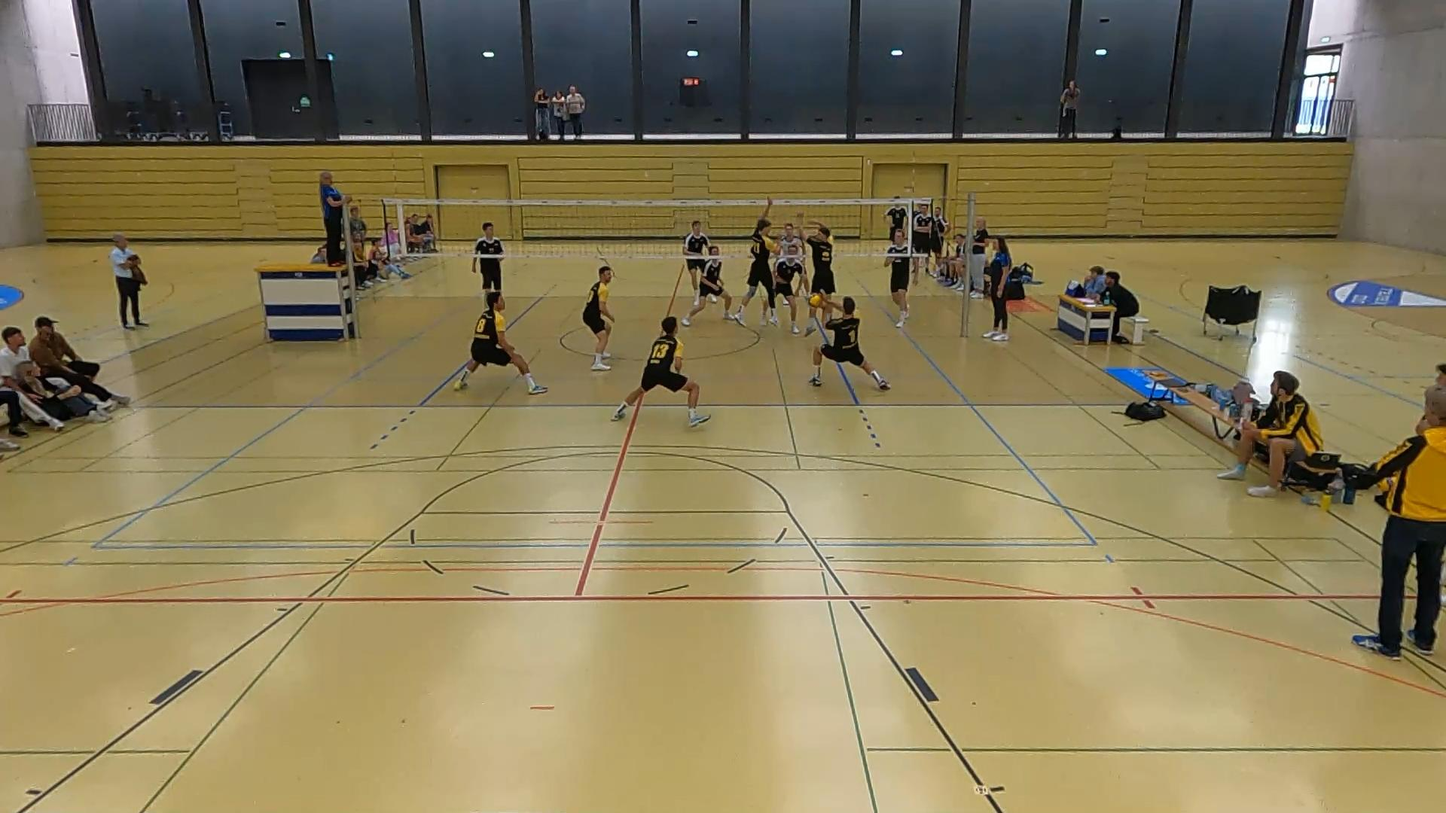Dig: (805, 291, 892, 390)
Player: (612, 315, 709, 426), (454, 291, 546, 394), (734, 198, 777, 325), (682, 245, 732, 326), (582, 265, 615, 370), (805, 221, 835, 335), (774, 240, 807, 333), (884, 229, 910, 326), (684, 220, 710, 305), (472, 222, 503, 291), (777, 222, 804, 255)
ball: (802, 291, 825, 312)
